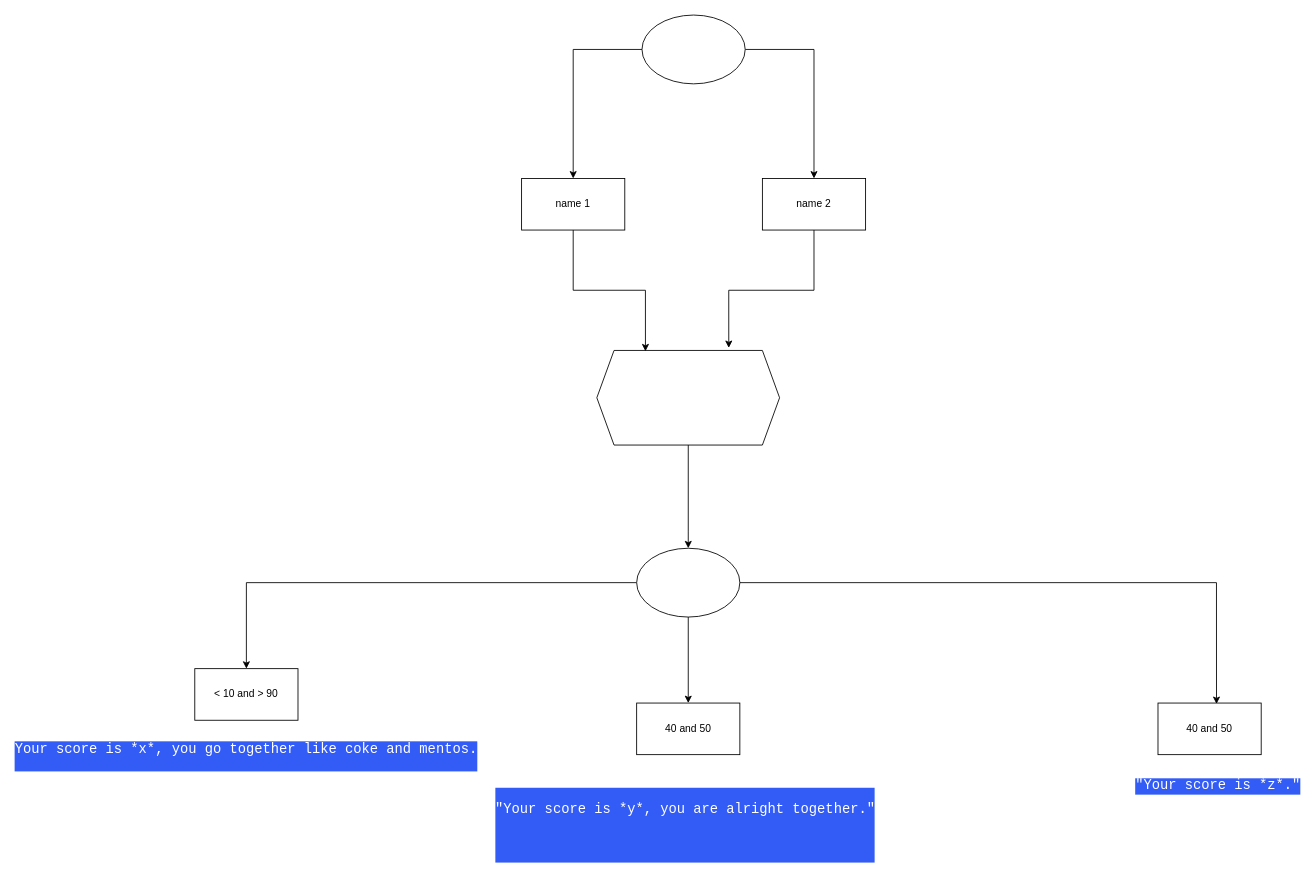
Image size: 1315x891. Some labels were removed from this diagram. Each missing label, with the centre of its shape:
Combine: [688,582]
Love Calculator: [693,49]
TRUE and LOVE Word: [688,397]
